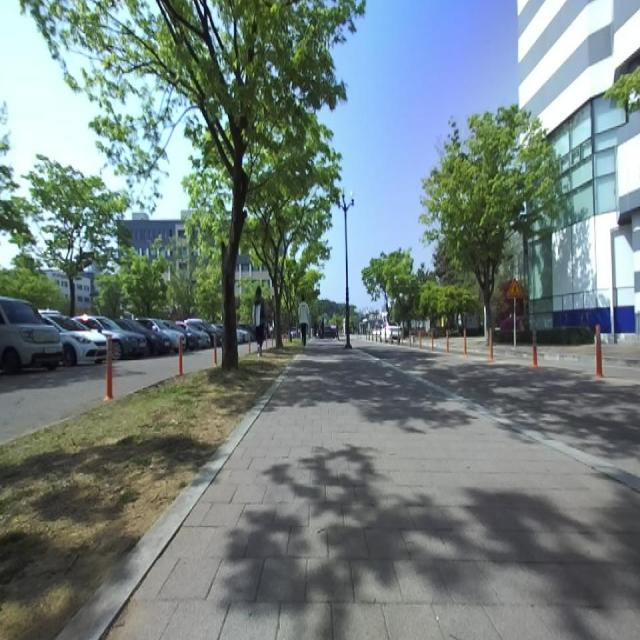sidewalk: (108, 339, 640, 639), (56, 361, 293, 640)
